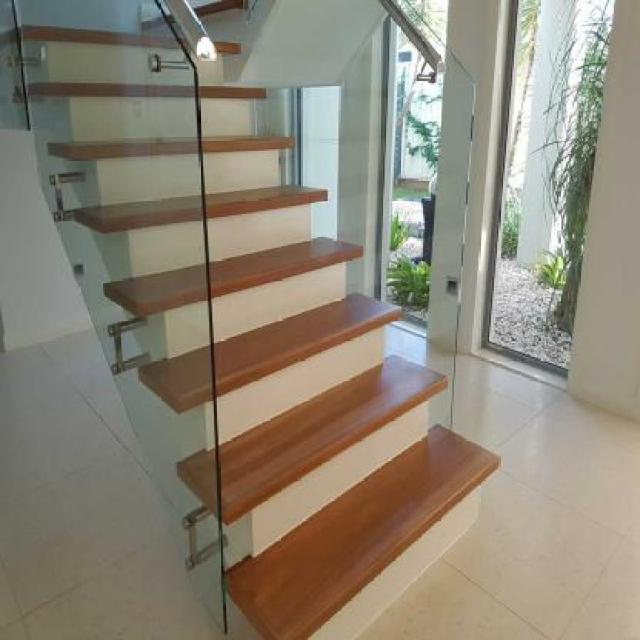stair: (56, 0, 510, 629)
